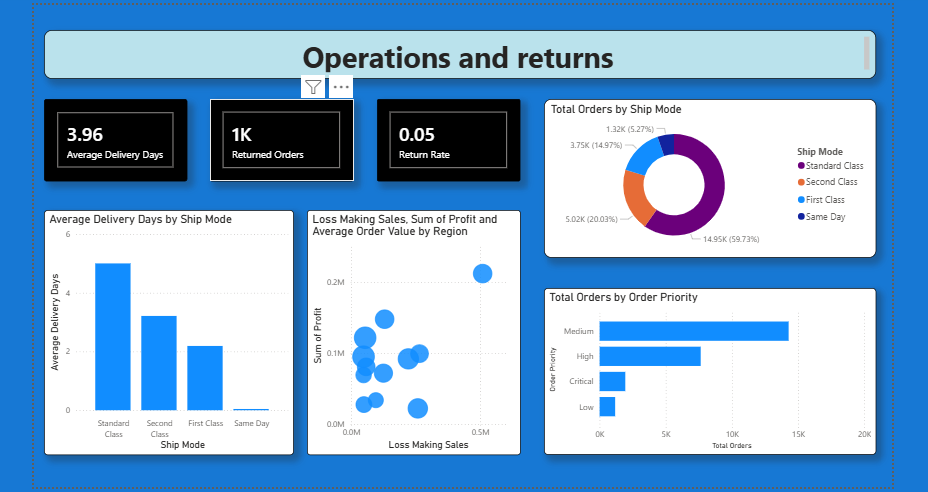

Layout of this report page (visuals, bound fields, positions):
{"tool":"powerbi","page":{"name":"04_Operations_Analysis","canvas":[1280,720],"ordinal":3},"visuals":[{"type":"textbox","box":[14.6,36.6,1242.4,73.2],"z":2},{"type":"cardVisual","fields":{"Data":["Table.Average Delivery Days"]},"box":[14.6,140.5,213.7,122.9],"z":3},{"type":"cardVisual","fields":{"Data":["Table.Returned Orders"]},"box":[263.4,140.5,213.7,122.9],"z":4},{"type":"cardVisual","fields":{"Data":["Table.Return Rate"]},"box":[512.2,140.5,213.7,122.9],"z":5},{"type":"donutChart","fields":{"Category":["FactOrders.Ship Mode"],"Y":["Table.Total Orders"]},"box":[761,140.5,496.1,237.1],"z":6},{"type":"barChart","fields":{"Category":["FactOrders.Order Priority"],"Y":["Table.Total Orders"]},"box":[761,422.9,496.1,248.8],"z":7},{"type":"clusteredColumnChart","fields":{"Category":["FactOrders.Ship Mode"],"Y":["Table.Average Delivery Days"]},"box":[14.6,305.9,373.2,365.9],"z":8},{"type":"scatterChart","fields":{"X":["Table.Loss Making Sales"],"Category":["DimRegionalManager.Region"],"Y":["Sum(FactOrders.Profit)"],"Size":["Table.Average Order Value"]},"box":[406.8,305.9,319,365.9],"z":9}]}

Visuals, with their boxes in screenshot pixels (x1, y1, x2, y2):
textbox: left=39, top=27, right=878, bottom=77
cardVisual - Table.Average Delivery Days: left=39, top=97, right=183, bottom=180
cardVisual - Table.Returned Orders: left=207, top=97, right=351, bottom=180
cardVisual - Table.Return Rate: left=375, top=97, right=519, bottom=180
donutChart - FactOrders.Ship Mode x Table.Total Orders: left=543, top=97, right=878, bottom=257
barChart - FactOrders.Order Priority x Table.Total Orders: left=543, top=288, right=878, bottom=456
clusteredColumnChart - FactOrders.Ship Mode x Table.Average Delivery Days: left=39, top=209, right=291, bottom=456
scatterChart - Table.Loss Making Sales x DimRegionalManager.Region: left=304, top=209, right=519, bottom=456
